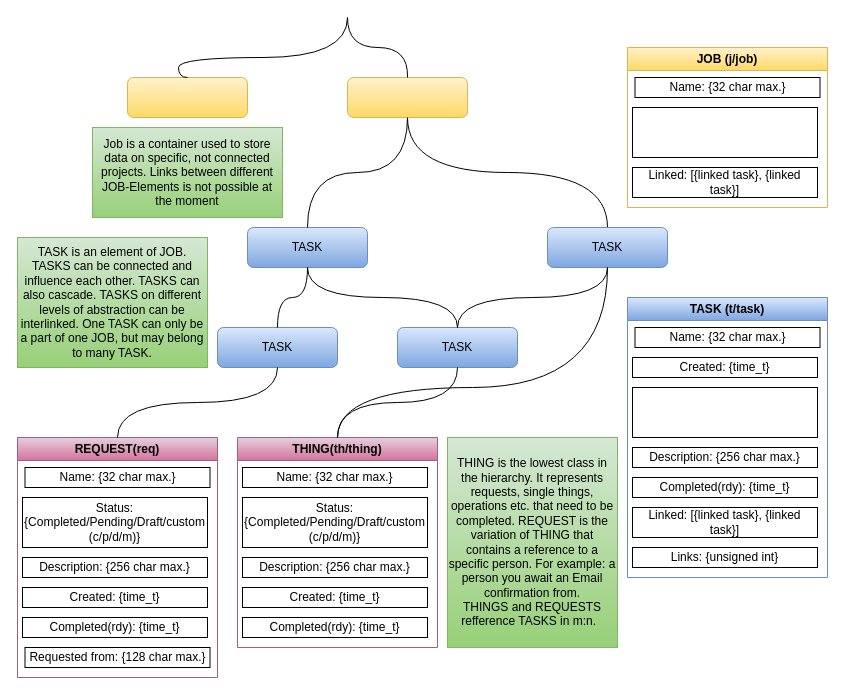
Image size: 845x695. Some labels were removed from this diagram. Each missing label, with the centre of its shape:
JOB: [187,97]
JOB(j/job): [407,97]
Status: "{tasks pending}/{tasks}": [725,132]
Status: {Completed/"{things completed}/ {things linked}"/Draft/custom (c/p/d/m)}: [725,412]
